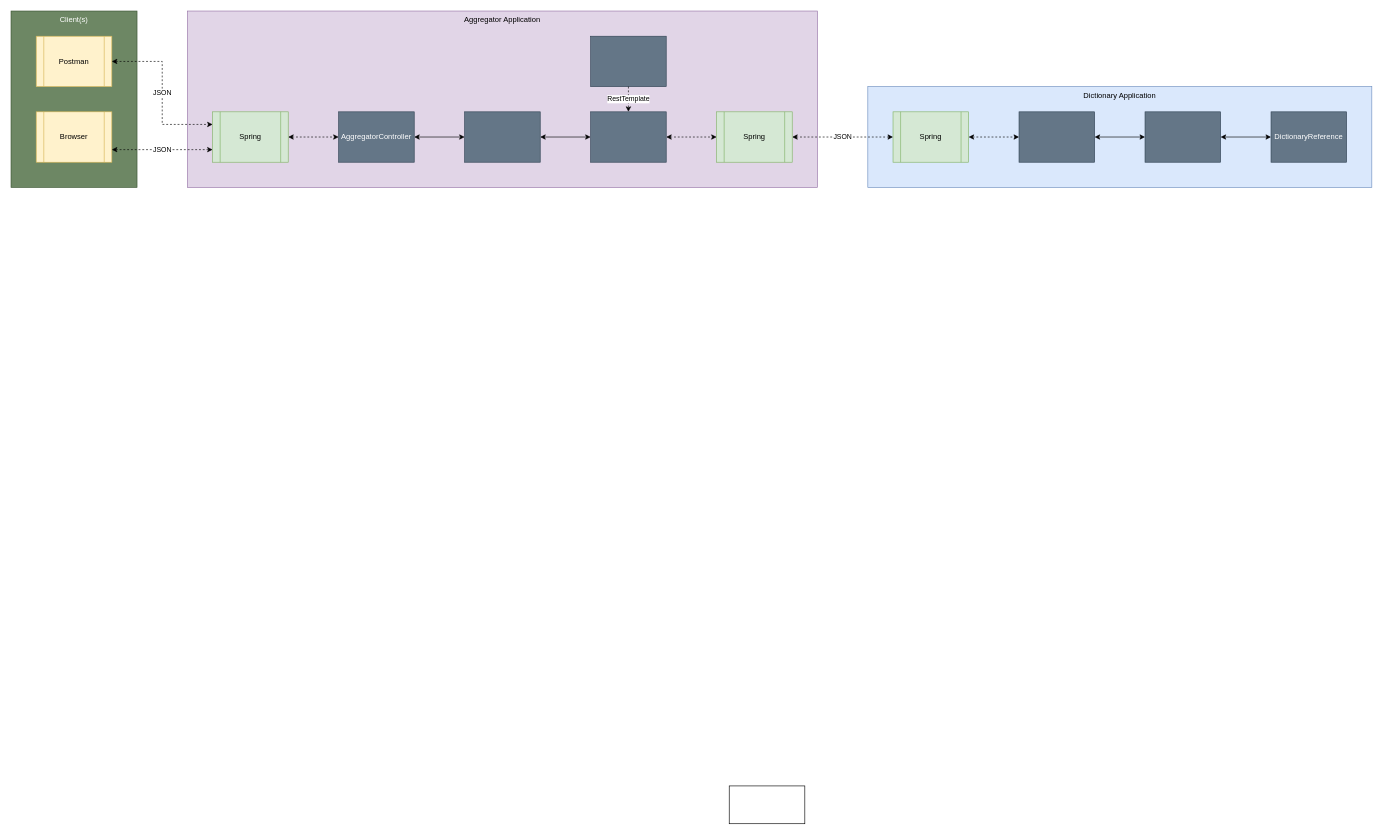
This 1383x835 diagram has some shape labels left out. Here are the shapes that lost their labels. From the top down, the centre of each, then its label:
the point at 628,61: AggregatorConfig
the point at 502,136: AggregatorService
the point at 628,136: AggregatorRestClient
the point at 1056,136: DictionaryController
the point at 1182,136: DictionaryService
